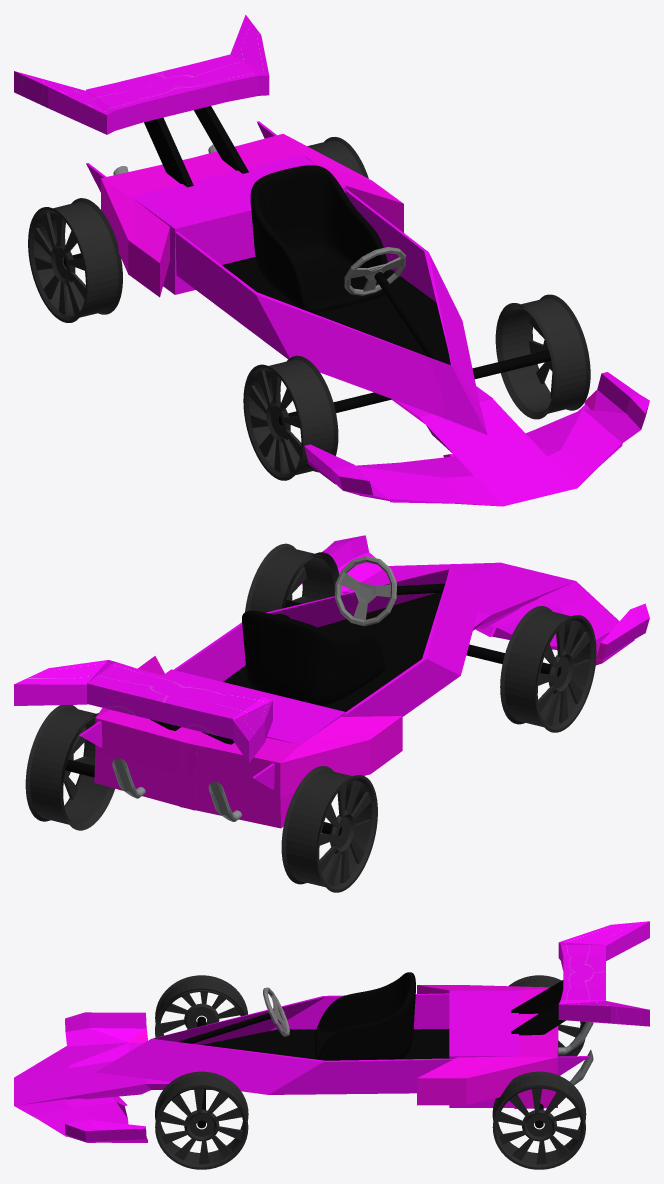
The model's file is karta.fbx.
3 renders of one model, top to bottom at view 1: azimuth 30°, elevation 25°; view 2: azimuth 150°, elevation 25°; view 3: azimuth 270°, elevation 25°, orthographic. The views are drawn at different scales.
Visible parts, largest first — view 1: Cube, Cube.001, Cube.005, Cube.002, Cube.003, Plane.001, Plane.002, Plane, Cube.004, Cube.006, Cylinder, Torus (+2 smaller); view 2: Cube.003, Cube.001, Cube.002, Cube, Cube.005, Plane.001, Plane, Plane.003, Cube.006, Plane.002, Cube.004, Torus (+3 smaller); view 3: Cube.001, Cube, Cube.002, Cube.003, Cube.005, Plane.002, Plane.003, Cube.004, Cube.006, Plane, Plane.001, Torus (+1 smaller).
Part boxes in pixels (box(x1,y1,x2,y2)): Cube: box(304, 372, 649, 506); Cube.001: box(86, 121, 487, 434); Cube.005: box(250, 165, 391, 312); Cube.002: box(14, 15, 269, 187); Cube.003: box(101, 133, 403, 297); Plane.001: box(28, 198, 122, 322); Plane.002: box(495, 294, 590, 419); Plane: box(243, 355, 338, 480); Cube.004: box(132, 155, 346, 294); Cube.006: box(222, 257, 450, 365); Cylinder: box(278, 350, 551, 426); Torus: box(344, 247, 405, 295); Cube.003: box(94, 656, 402, 828); Cube.001: box(79, 569, 485, 789); Cube.002: box(14, 660, 272, 762); Cube: box(302, 535, 649, 665); Cube.005: box(242, 610, 385, 705); Plane.001: box(281, 766, 377, 892); Plane: box(500, 606, 596, 732); Plane.003: box(25, 705, 114, 830); Cube.006: box(223, 592, 442, 712); Plane.002: box(245, 543, 339, 612); Cube.004: box(163, 669, 345, 743); Torus: box(335, 556, 396, 626); Cube.001: box(96, 993, 589, 1094); Cube: box(14, 1012, 211, 1142); Cube.002: box(511, 921, 649, 1035); Cube.003: box(417, 985, 558, 1108); Cube.005: box(315, 972, 415, 1060); Plane.002: box(155, 1071, 248, 1169); Plane.003: box(492, 1071, 586, 1169); Cube.004: box(449, 990, 518, 1107); Cube.006: box(202, 1029, 449, 1059); Plane: box(155, 975, 247, 1037); Plane.001: box(508, 975, 585, 1056); Torus: box(263, 987, 289, 1036).
Bounding box in the file's own units: 916 × 535 × 2072.
Materials: 17 (17 with a texture image).
